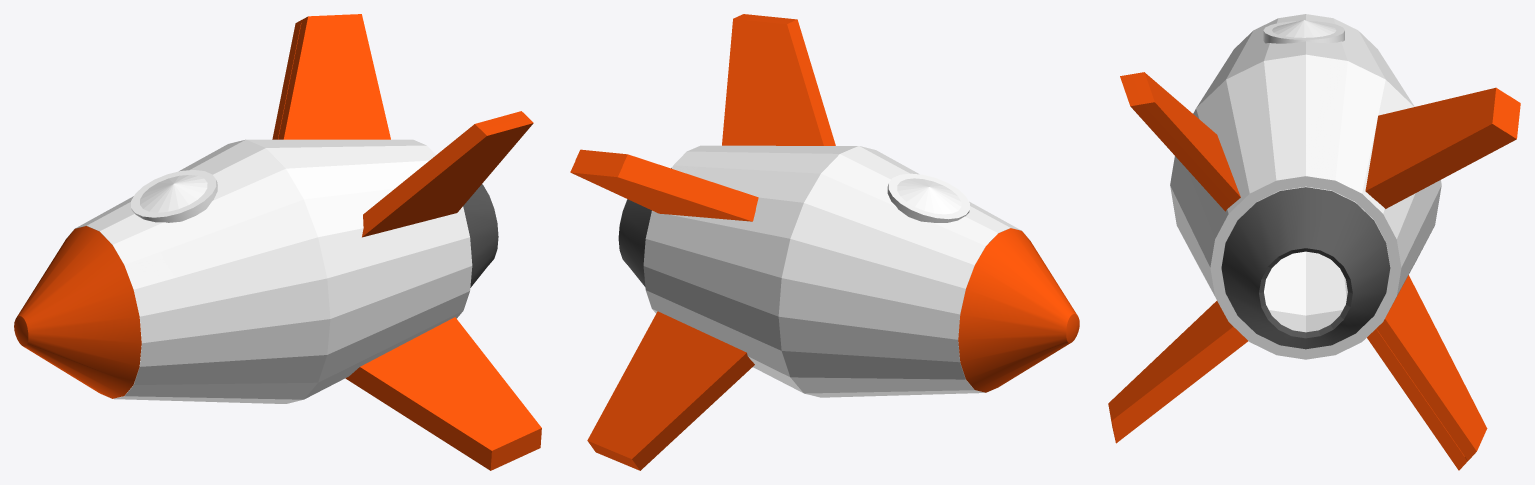
Rendered from huojian.fbx.
3 views of the same model, side by side, from view 1: azimuth 30°, elevation 25°; view 2: azimuth 150°, elevation 25°; view 3: azimuth 270°, elevation 25° (orthographic). The views are drawn at different scales.
Visible parts, largest first — view 1: huojian_group3_polySurface136, huojian_group3_pCube30, polySurface135; view 2: huojian_group3_polySurface136, huojian_group3_pCube30, polySurface135; view 3: huojian_group3_polySurface136, huojian_group3_pCube30, polySurface135.
Boxes of the visible parts, box(x1,y1,x2,y2) form: huojian_group3_polySurface136: box(65, 139, 472, 403); huojian_group3_pCube30: box(14, 14, 541, 470); polySurface135: box(463, 184, 498, 287); huojian_group3_polySurface136: box(643, 145, 1030, 397); huojian_group3_pCube30: box(570, 14, 1079, 470); polySurface135: box(618, 168, 671, 286); huojian_group3_polySurface136: box(1170, 14, 1441, 359); huojian_group3_pCube30: box(1108, 72, 1520, 470); polySurface135: box(1221, 187, 1390, 349).
Bounding box in the file's own units: 2 × 1.48 × 1.49.
